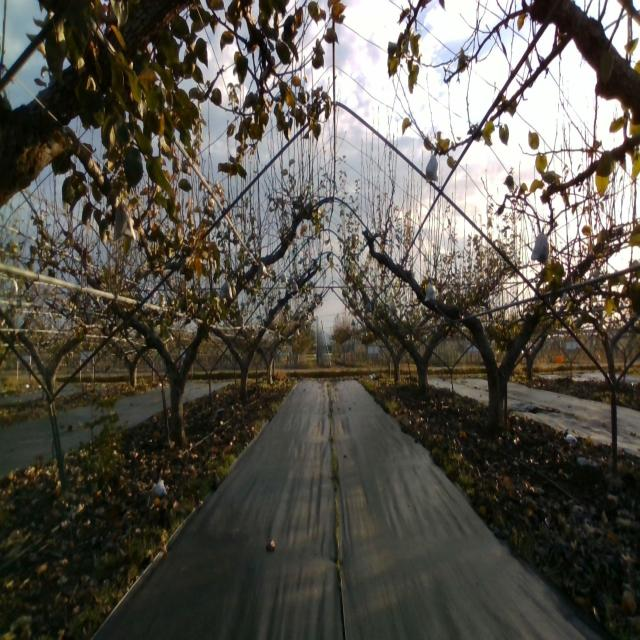pearbags: (113, 198, 136, 243), (531, 227, 550, 265), (425, 151, 438, 183), (218, 279, 233, 301), (425, 282, 439, 305), (256, 260, 268, 281)
